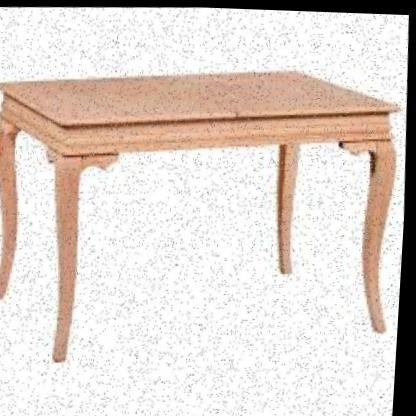Table: (0, 33, 409, 401)
